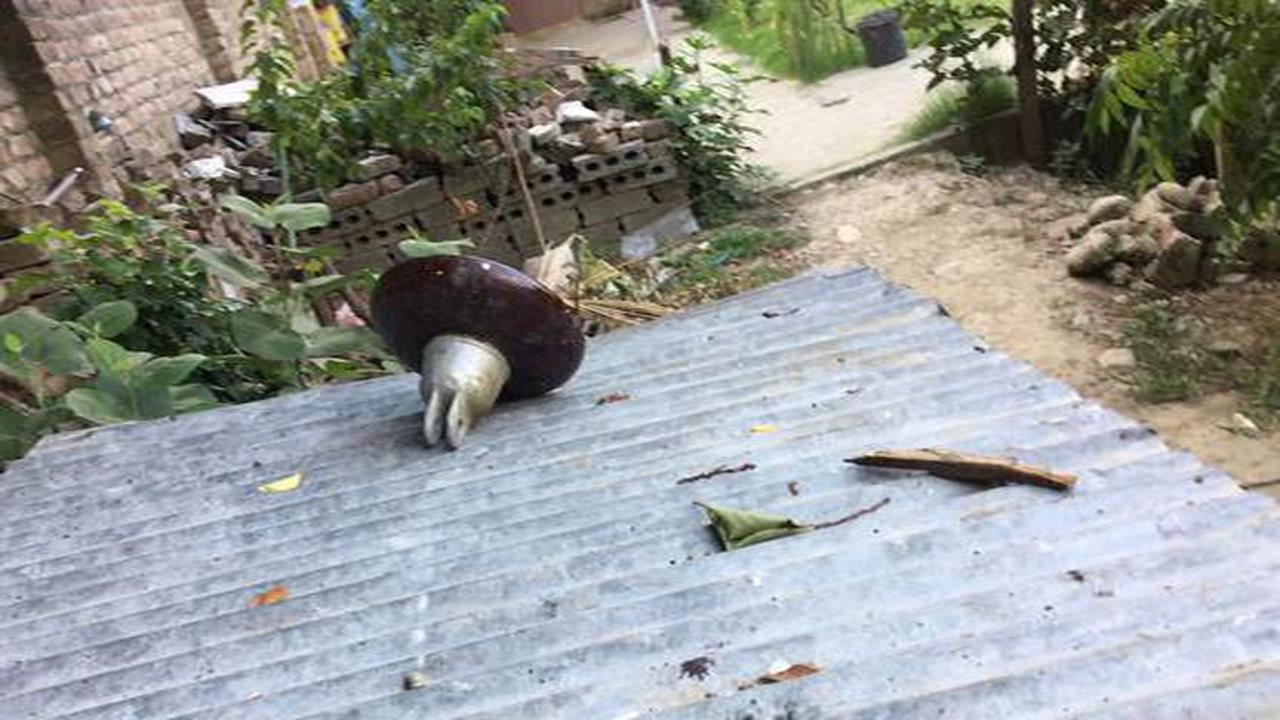insulator_disc: (365, 252, 589, 454)
